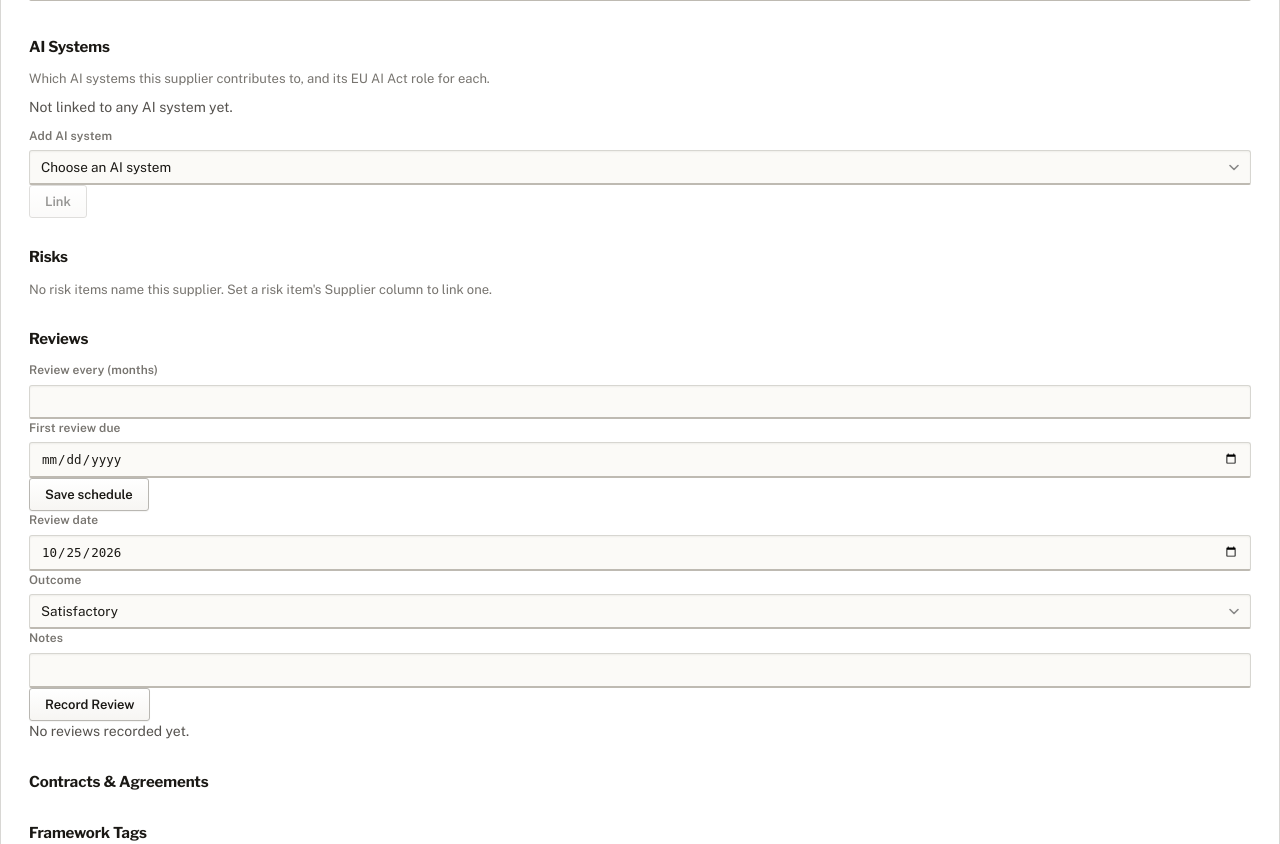
Test: SupplierDetail › won't save a review schedule with only one half set
(page scrolled)
Step 1. Type "12" into the number field labelled "Review every (months)" → (640, 402), box [29, 385, 1251, 419]
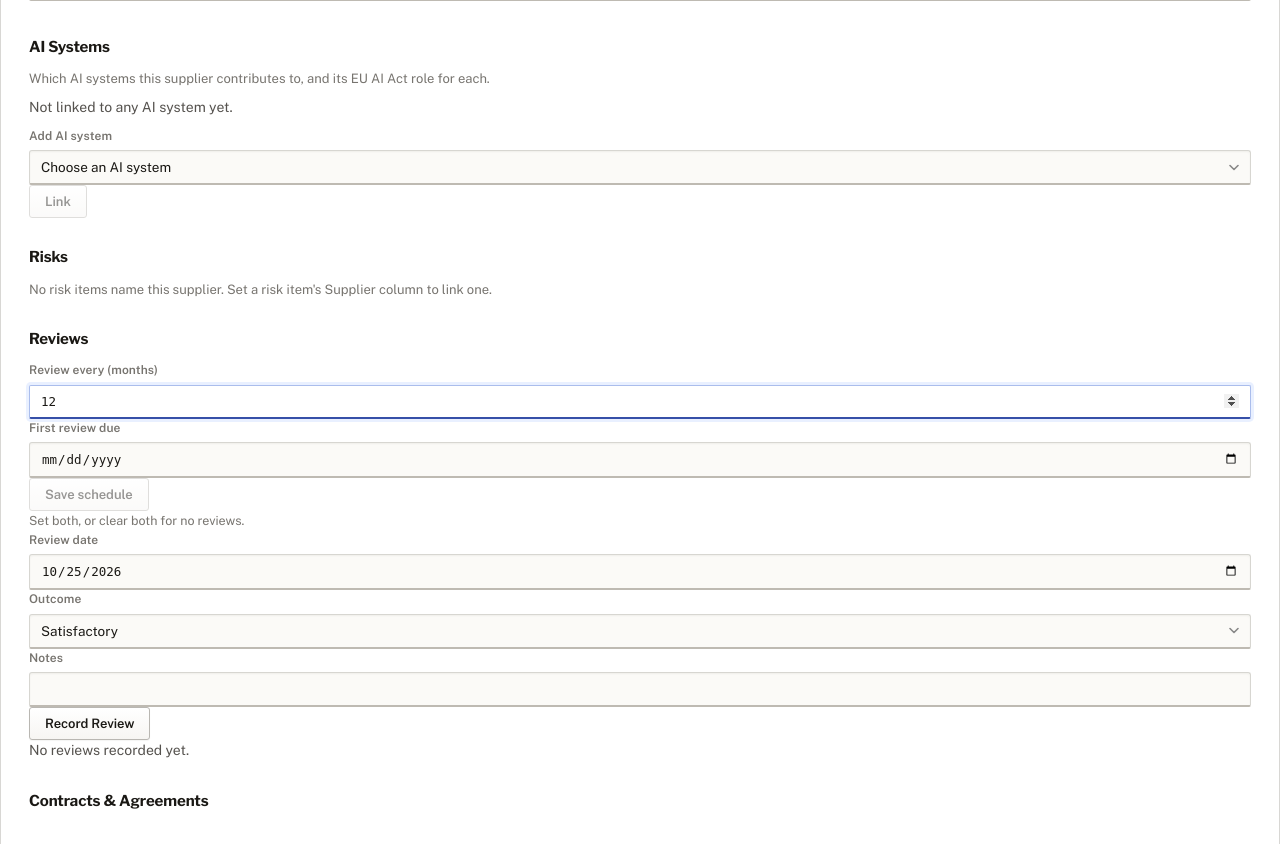
Check: the button "Save schedule" is disabled, box [29, 478, 149, 511]
Check: the text "Set both, or clear both for no reviews." is shown, box [29, 513, 244, 528]
